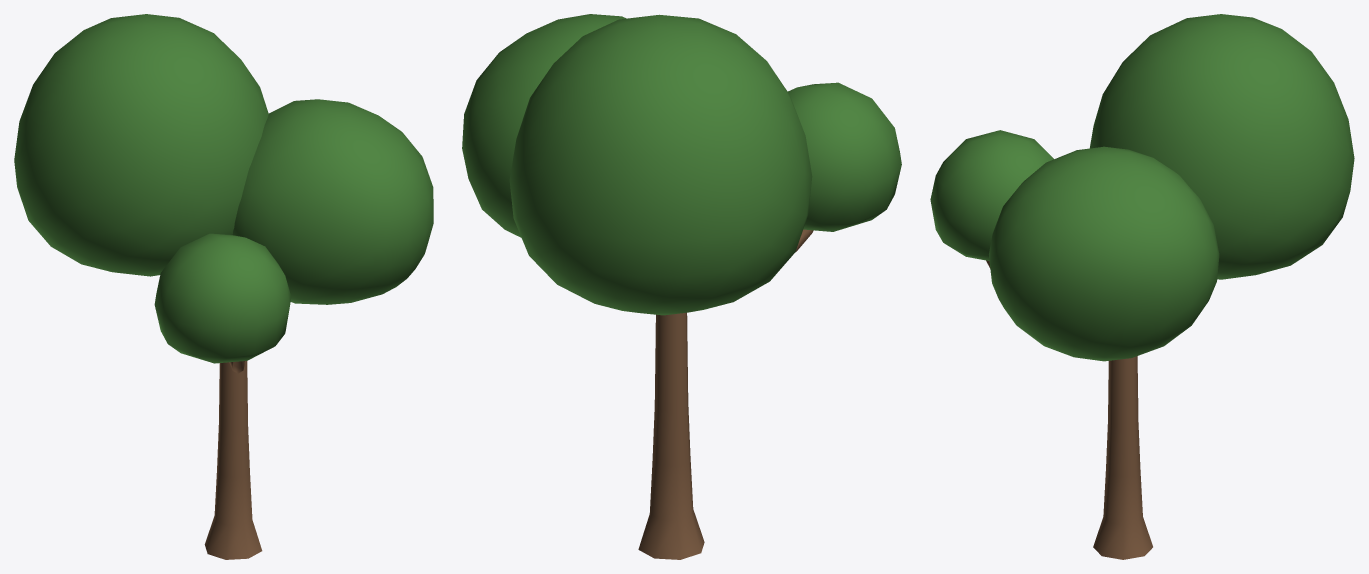
The model's file is SM_tree_standard_04.fbx.
3 renders of one model, left to right at view 1: azimuth 30°, elevation 25°; view 2: azimuth 150°, elevation 25°; view 3: azimuth 270°, elevation 25°, orthographic. The views are drawn at different scales.
Parts seen in each view (by area): view 1: Cylinder004; view 2: Cylinder004; view 3: Cylinder004.
Boxes of the visible parts, bbox=[...] form: Cylinder004: bbox=[14, 14, 433, 559]; Cylinder004: bbox=[462, 14, 901, 559]; Cylinder004: bbox=[930, 14, 1354, 559].
Size of the model in its own units: 119 by 173 by 133.
